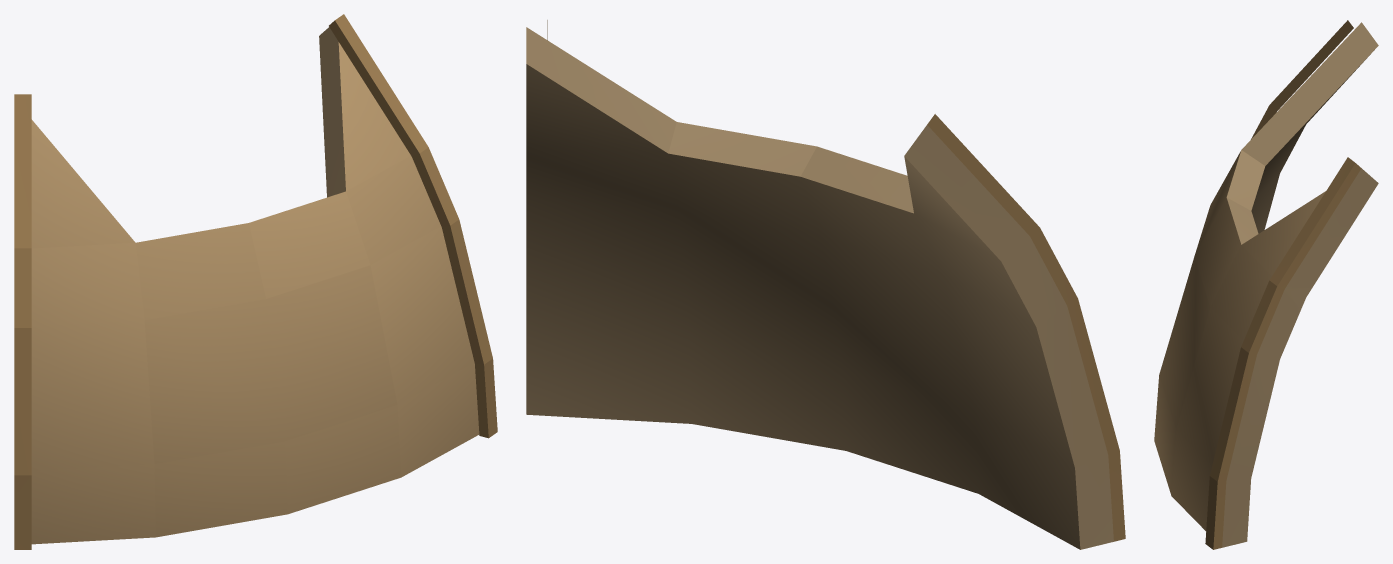
The model's file is dome.panel_6_broken.sandstone.glb.
3 views of the same model, side by side, from view 1: azimuth 30°, elevation 25°; view 2: azimuth 150°, elevation 25°; view 3: azimuth 270°, elevation 25° (orthographic). The views are drawn at different scales.
Parts seen in each view (by area): view 1: dome_panel_6_broken_sandstone; view 2: dome_panel_6_broken_sandstone; view 3: dome_panel_6_broken_sandstone.
Boxes of the visible parts, x1,y1,x2,y2 form: dome_panel_6_broken_sandstone: [14, 14, 497, 549]; dome_panel_6_broken_sandstone: [526, 20, 1125, 549]; dome_panel_6_broken_sandstone: [1154, 20, 1378, 549].
Size of what is drawn, in the model's own units: 3.57 by 2.68 by 1.55.
